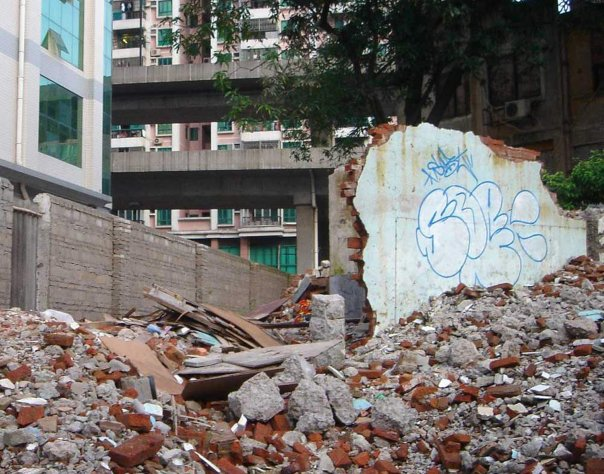graffity: (390, 138, 557, 299)
